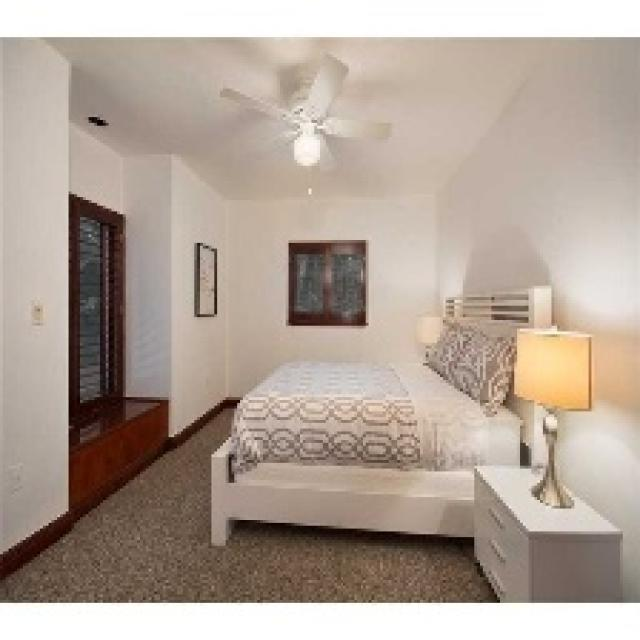Bed: (209, 286, 554, 546)
